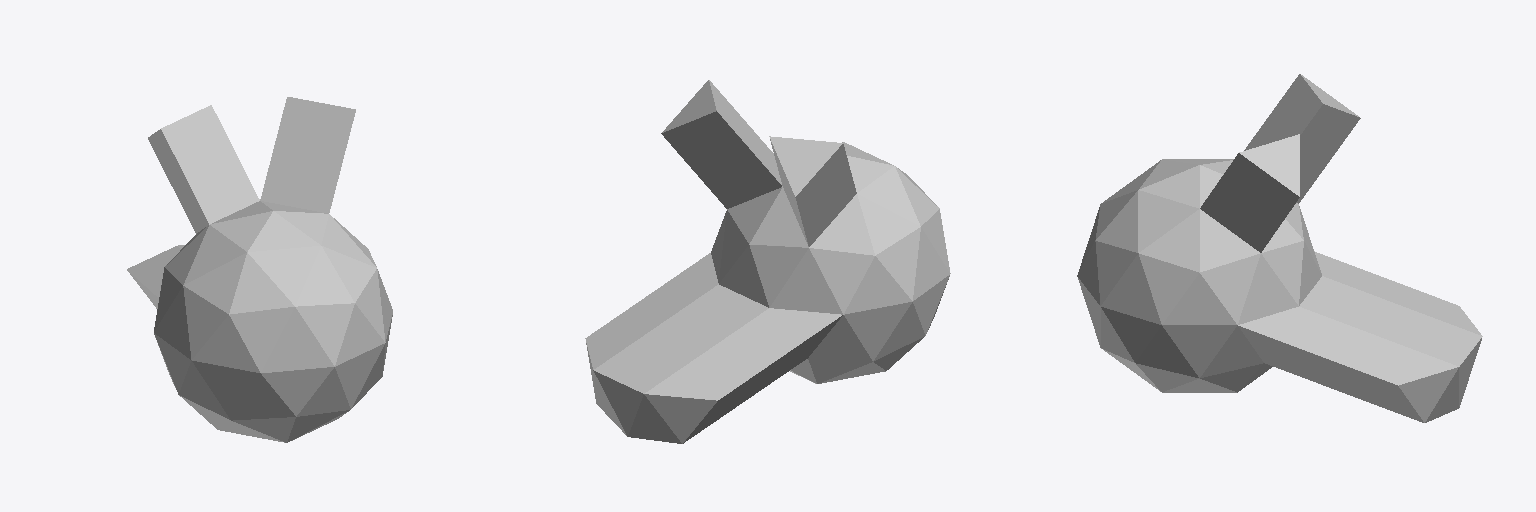
File: poop.obj
3 renders of one model, left to right at view 1: azimuth 30°, elevation 25°; view 2: azimuth 150°, elevation 25°; view 3: azimuth 270°, elevation 25°, orthographic.
Parts seen in each view (by area): view 1: Icosphere; view 2: Icosphere; view 3: Icosphere.
Boxes of the visible parts, <box> form: Icosphere: <box>127,97,392,442</box>; Icosphere: <box>585,80,950,443</box>; Icosphere: <box>1077,74,1482,422</box>.
Size of the model in its own units: 9.32 by 10.25 by 13.26.